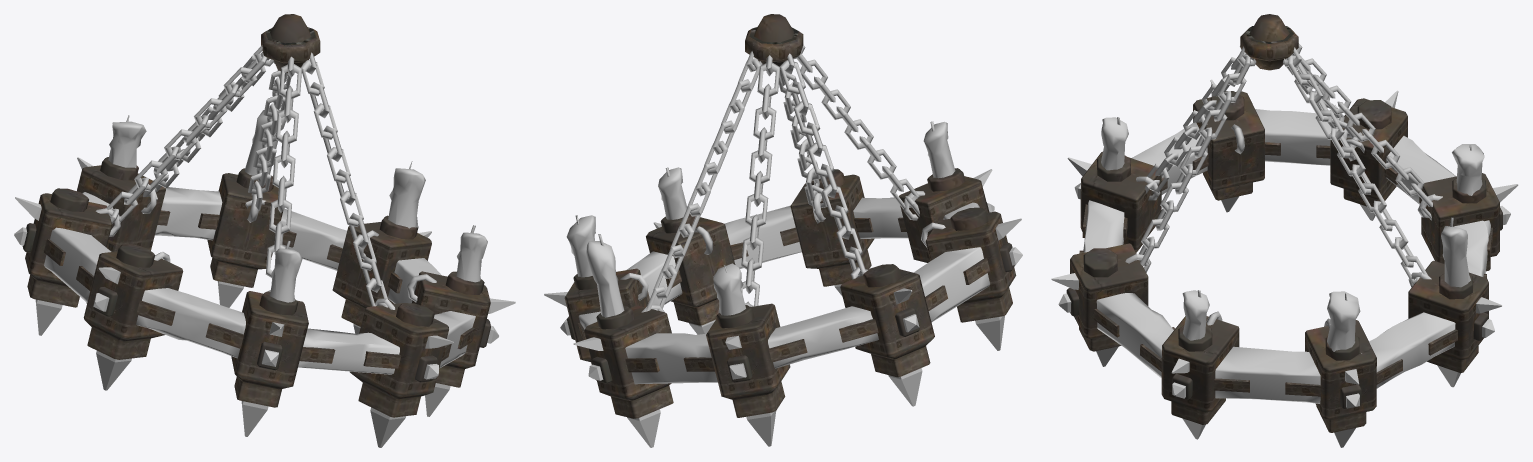
3 views of the same model, side by side, from view 1: azimuth 30°, elevation 25°; view 2: azimuth 150°, elevation 25°; view 3: azimuth 270°, elevation 25° (orthographic). The views are drawn at different scales.
Visible parts, largest first — view 1: SM_DR_Chandelier_03_LOD0; view 2: SM_DR_Chandelier_03_LOD0; view 3: SM_DR_Chandelier_03_LOD0.
Part boxes in pixels (x1,y1,x2,y2): SM_DR_Chandelier_03_LOD0: [14, 14, 515, 447]; SM_DR_Chandelier_03_LOD0: [544, 14, 1022, 447]; SM_DR_Chandelier_03_LOD0: [1051, 14, 1518, 447].
Bounding box in the file's own units: 1.49 × 1.37 × 1.54.
